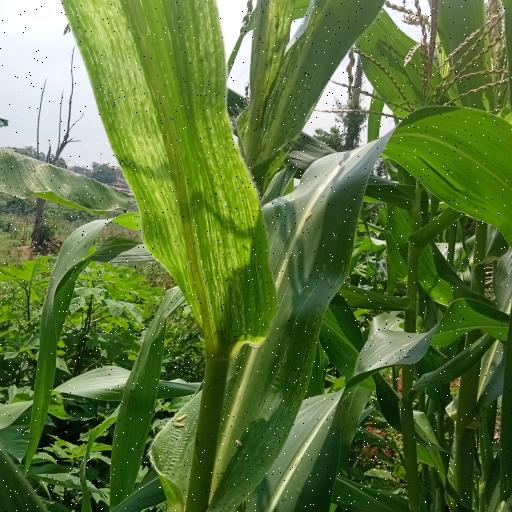Corn_Streak: (60, 0, 280, 345)
